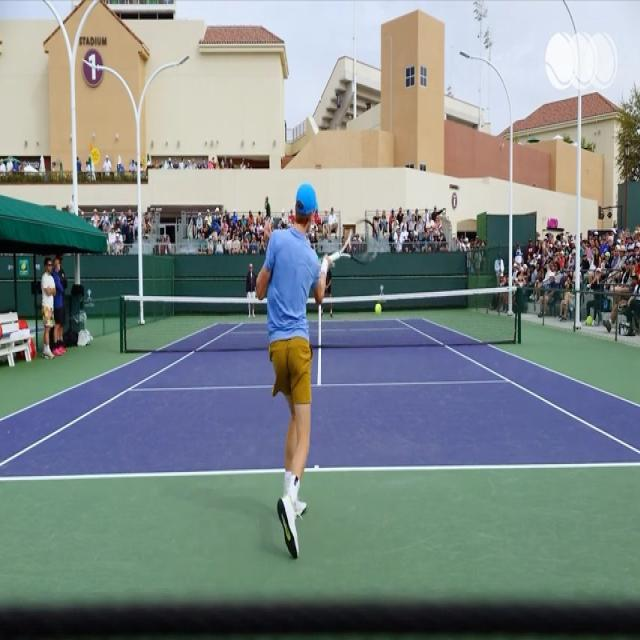forehand-stroke: (247, 188, 380, 566)
